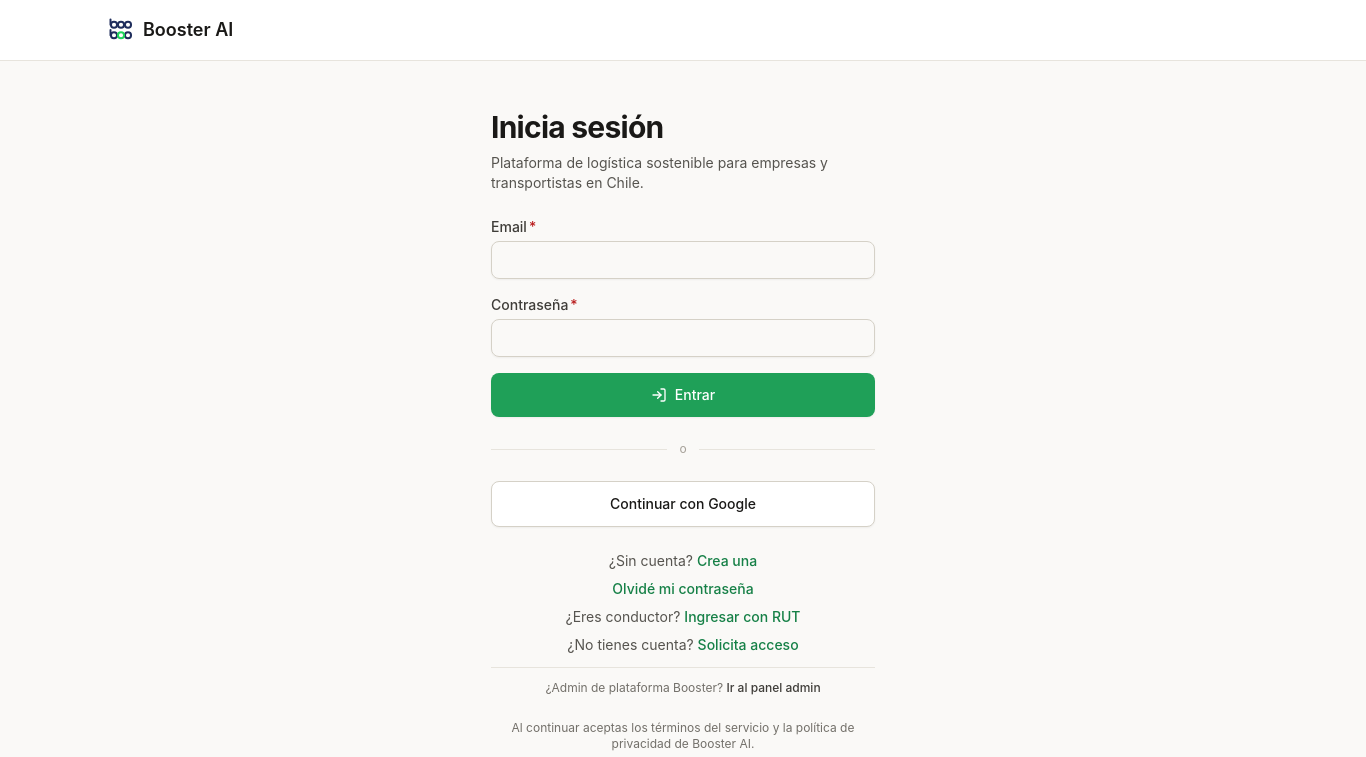
Test: LoginRoute — sign in con email/password › password < 6 → error password
Type "a@b.cl" into the field labelled "Email*". click: point(683, 260)
box: [491, 241, 875, 279]
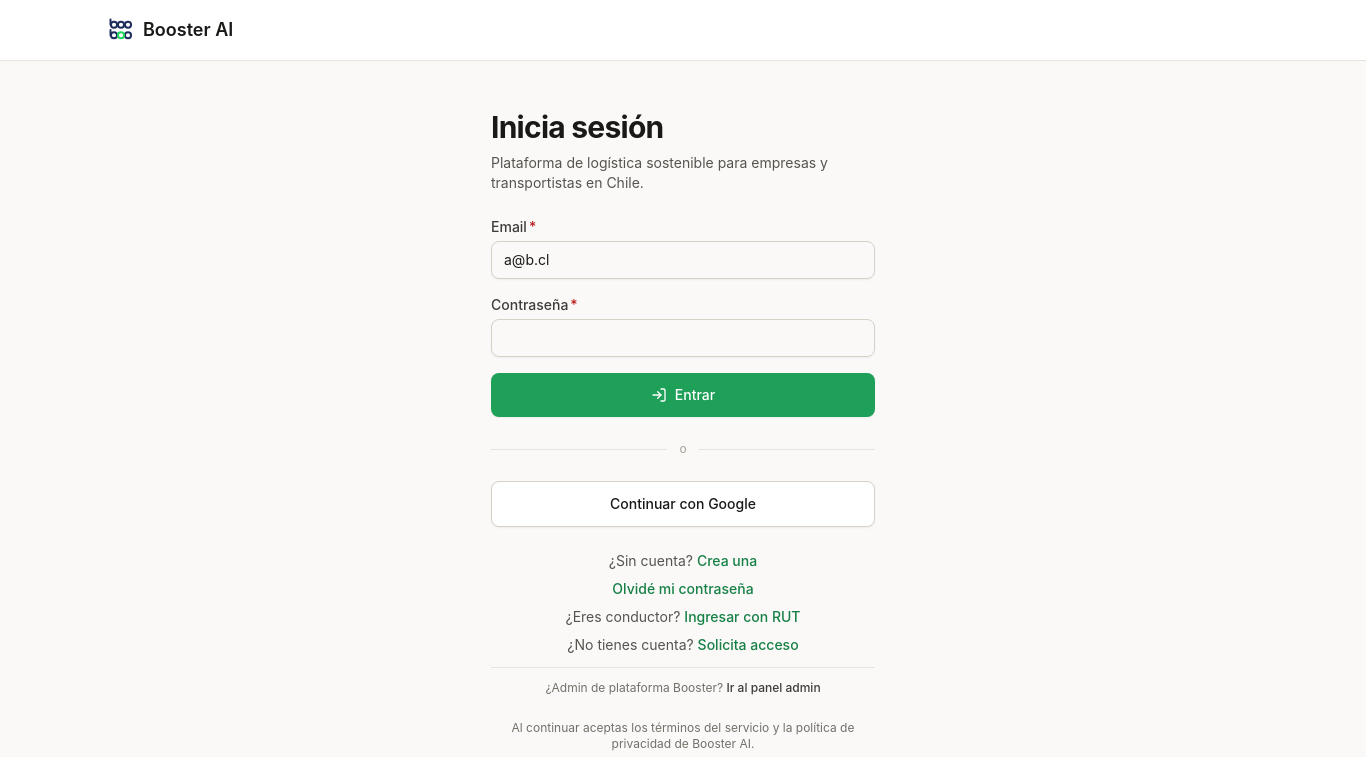
Type "123" into the password field labelled "Contraseña*". click: point(683, 338)
box: [491, 319, 875, 357]
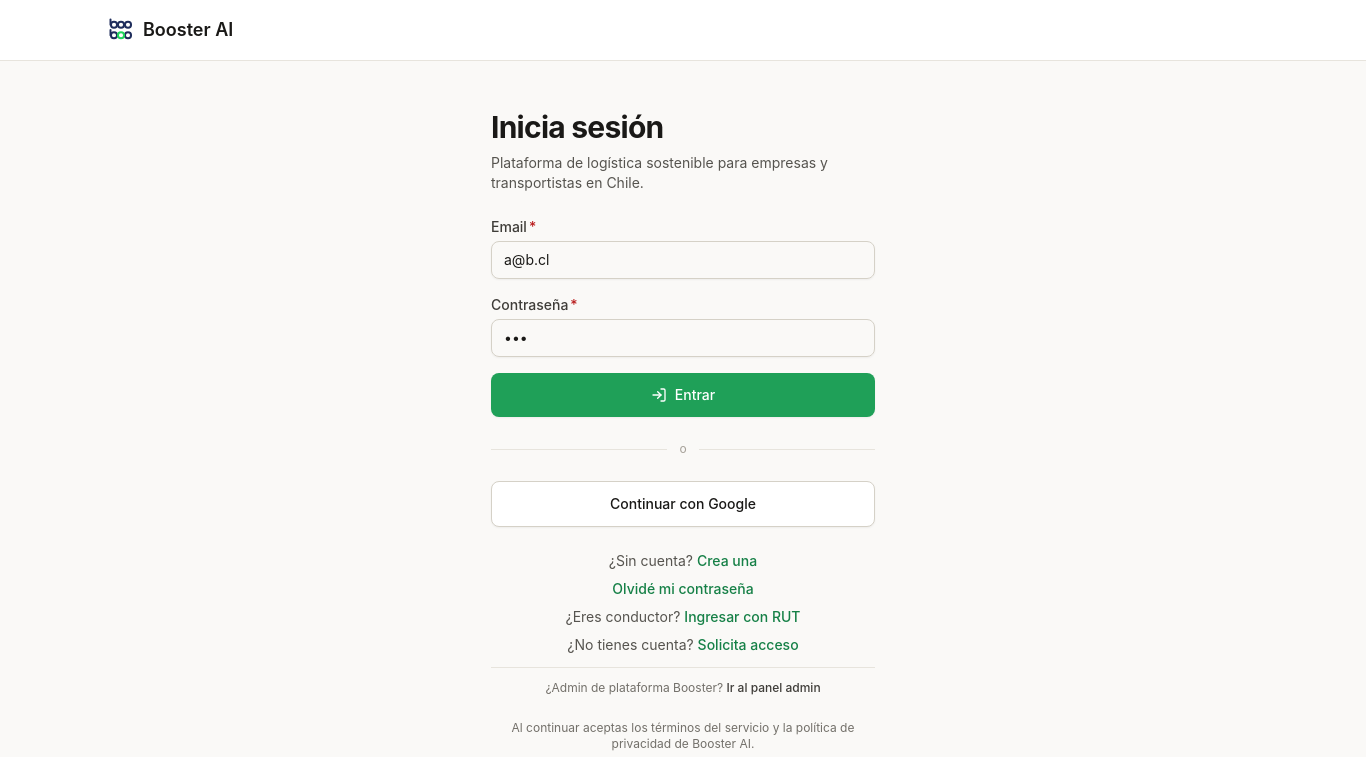
Click the button "Entrar". click: point(683, 395)
box: [491, 373, 875, 417]
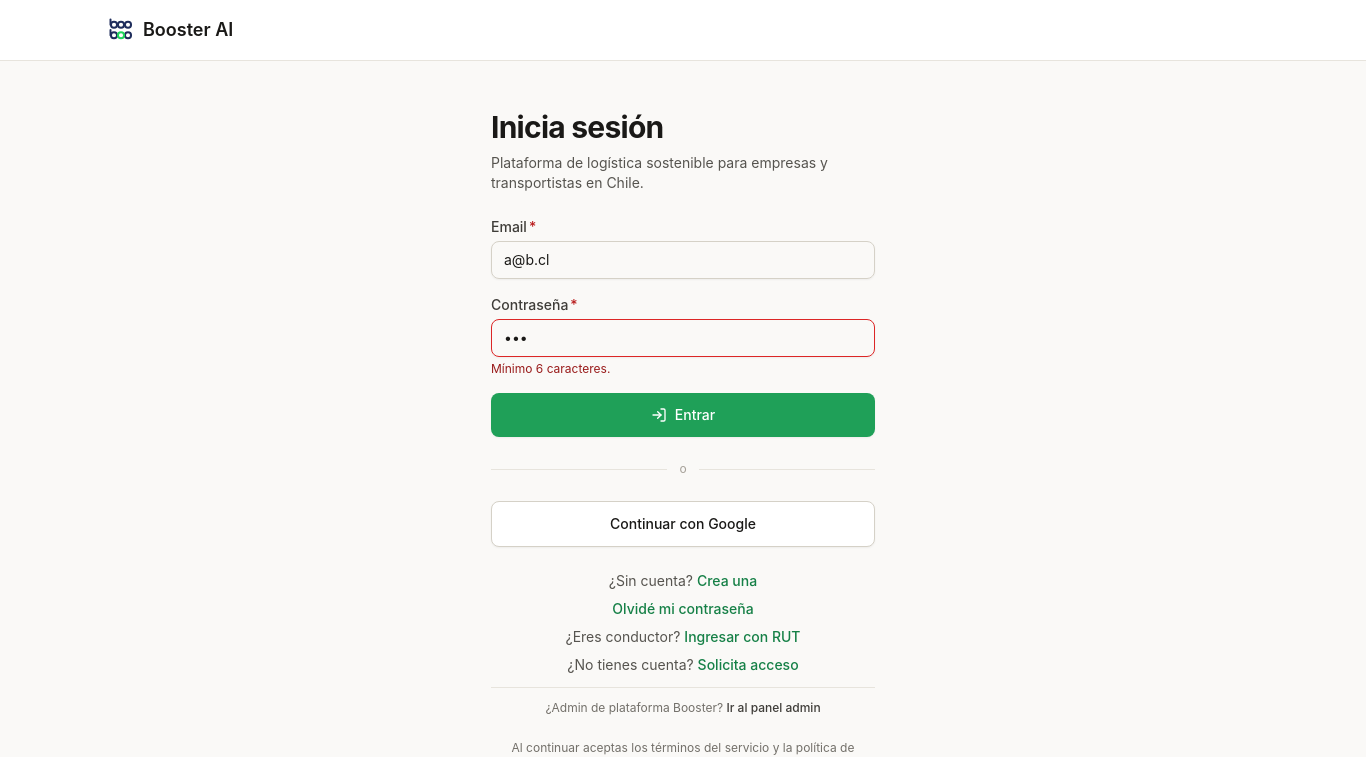
Expected: the text "Mínimo 6 caracteres." is shown, [491, 361, 610, 376]
